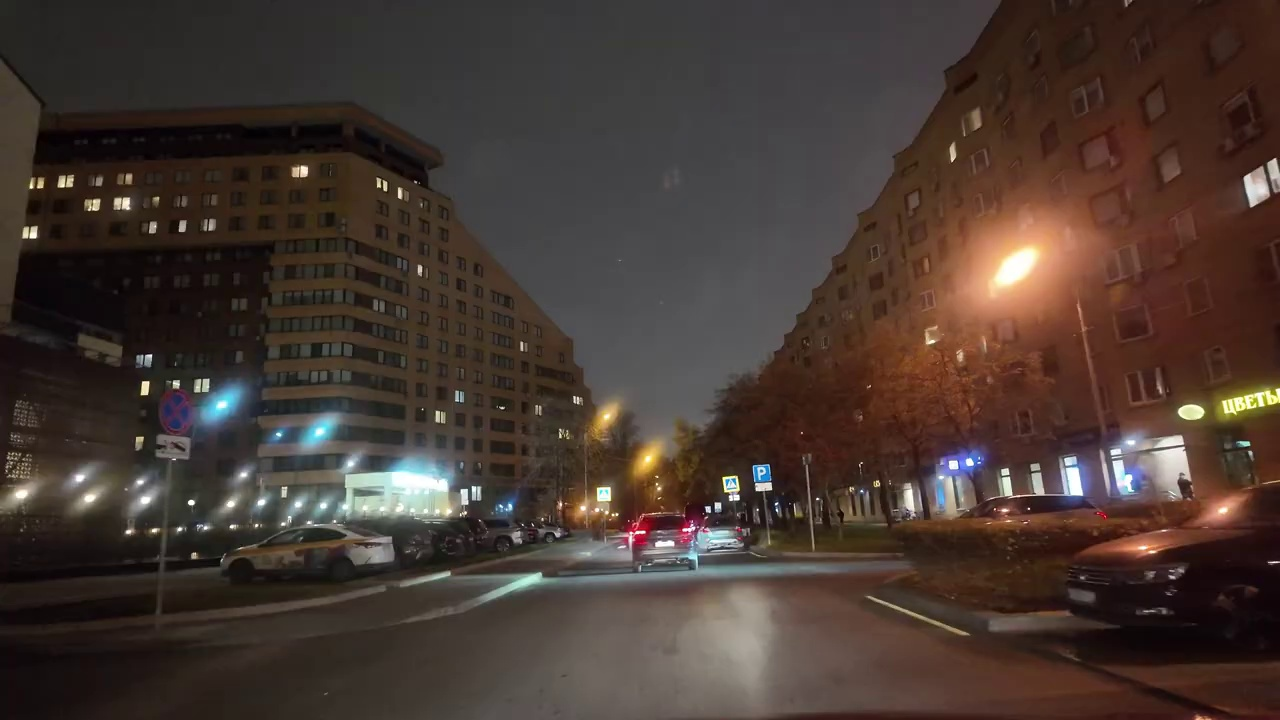acesa: (984, 240, 1051, 299), (588, 401, 620, 438), (632, 443, 661, 476)
